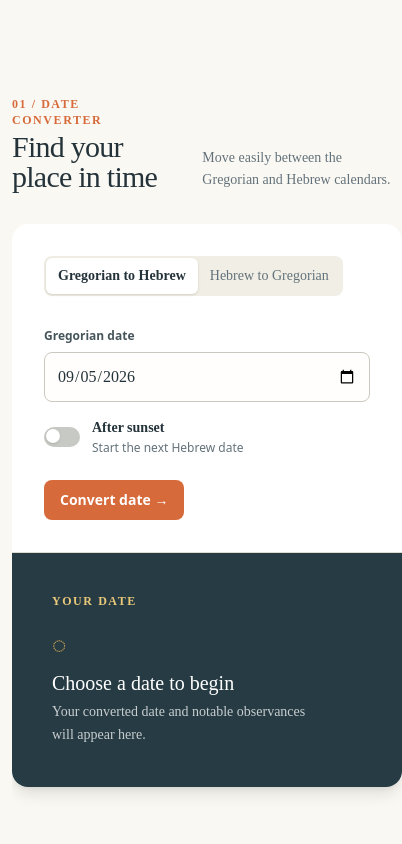
it: Converter › switches to Hebrew form on tab click
What coordinates should you click on to do the following:
click the tab "Hebrew to Gregorian"
I would click on:
 (269, 276)
Its box is [198,258,341,294].
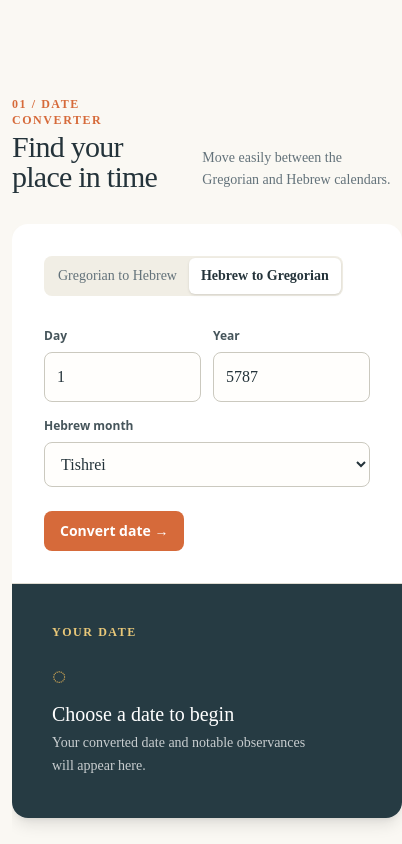
Now the dropdown labelled "Hebrew month" is shown, box [44,442,370,487]
